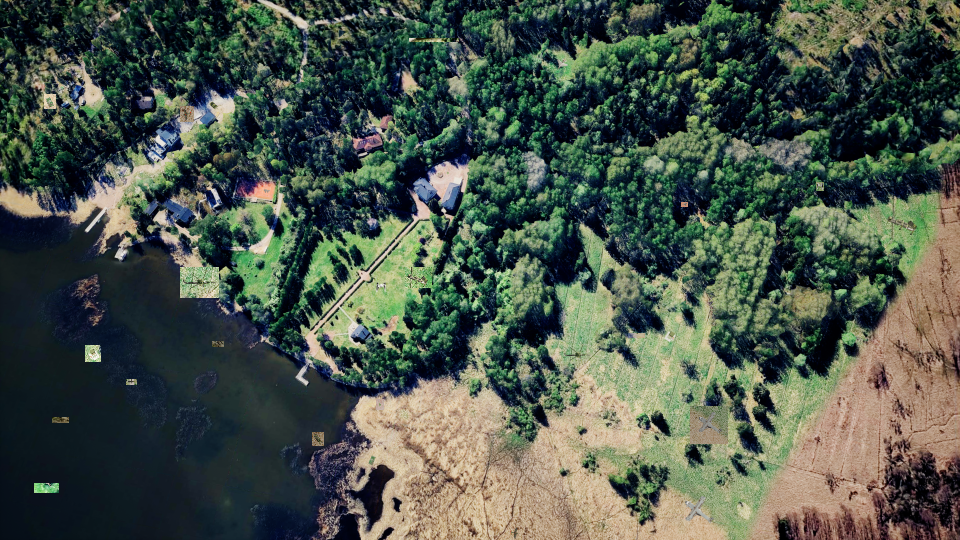condor: (690, 406, 728, 444)
hangar: (409, 38, 459, 42)
helicopter: (180, 267, 219, 298)
jammer: (44, 94, 56, 109)
jet_plane: (34, 483, 59, 493)
large_launcher: (405, 267, 432, 288)
large_tower: (212, 341, 224, 347)
medium_launcher: (52, 417, 69, 423)
medium_plane: (126, 379, 137, 385)
mine_roller: (312, 432, 324, 446)
small_launcher: (376, 399, 384, 410)
small_plane: (180, 106, 194, 122)
small_tower: (85, 345, 101, 362)
spacecraft: (816, 182, 824, 191)
ta-ta: (681, 202, 688, 207)
tank: (628, 333, 645, 338)
